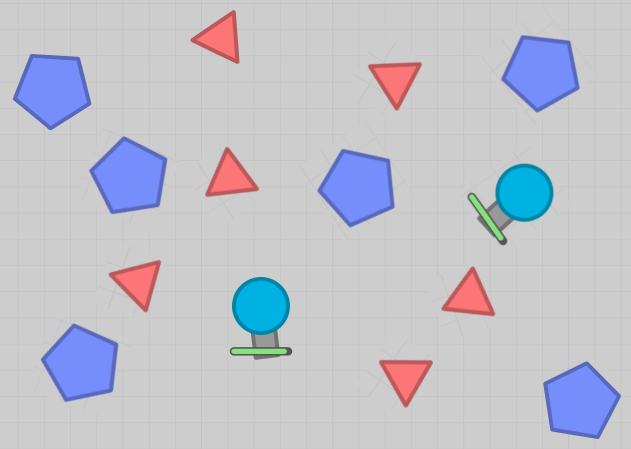Pentagon: (499, 33, 582, 114), (540, 359, 622, 440), (38, 322, 120, 403), (11, 52, 93, 132), (88, 134, 167, 217), (316, 147, 396, 228)
Player: (476, 161, 555, 241), (229, 276, 291, 360)
Triangle: (106, 258, 163, 314), (439, 264, 497, 317), (364, 61, 423, 112), (376, 358, 435, 409), (189, 8, 242, 64), (204, 145, 260, 198)
